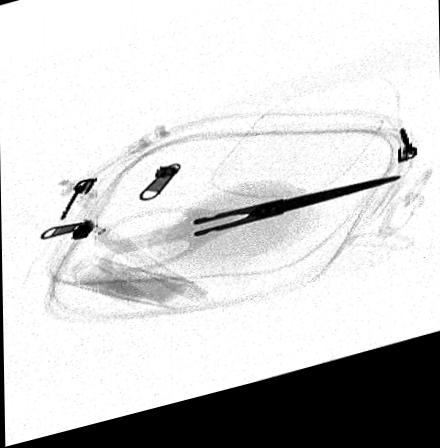Scissors: (89, 192, 413, 283)
